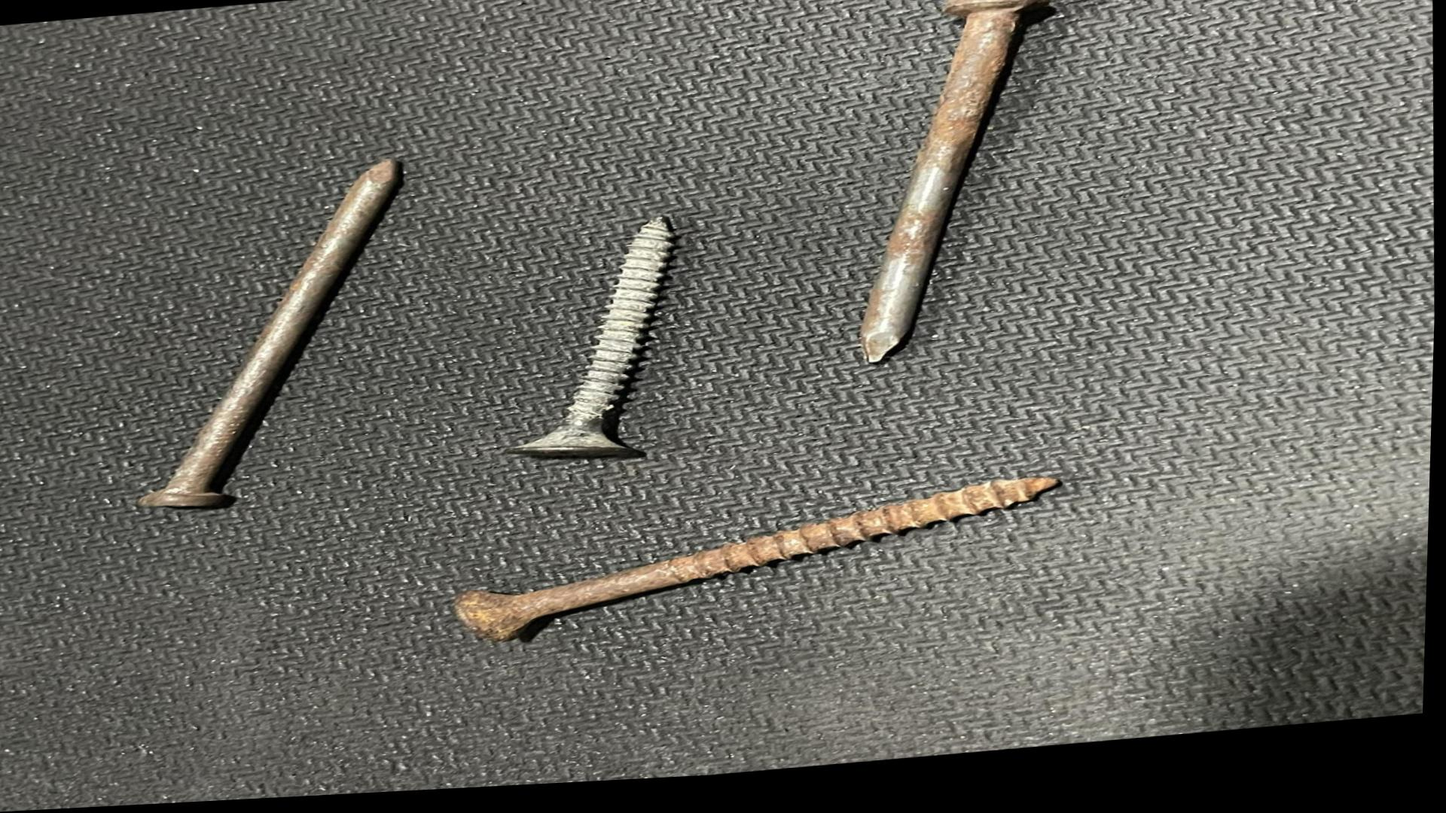nail: (59, 131, 449, 547), (780, 0, 1129, 382)
screw: (458, 464, 1136, 676), (472, 205, 735, 490)
